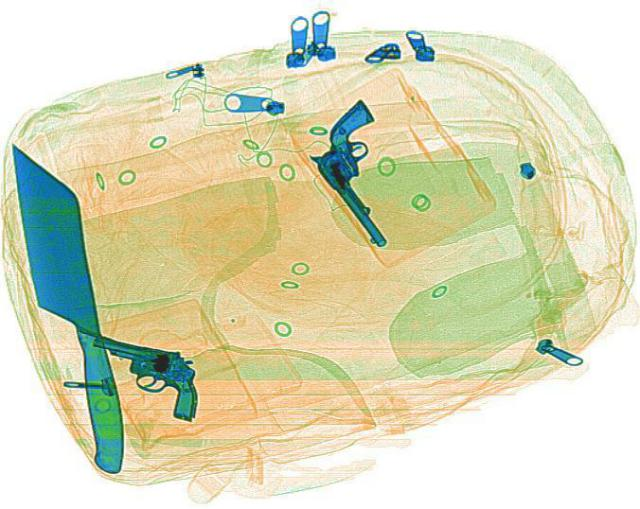Gun: (285, 96, 443, 247), (69, 332, 217, 421)
Knife: (1, 137, 138, 476)
